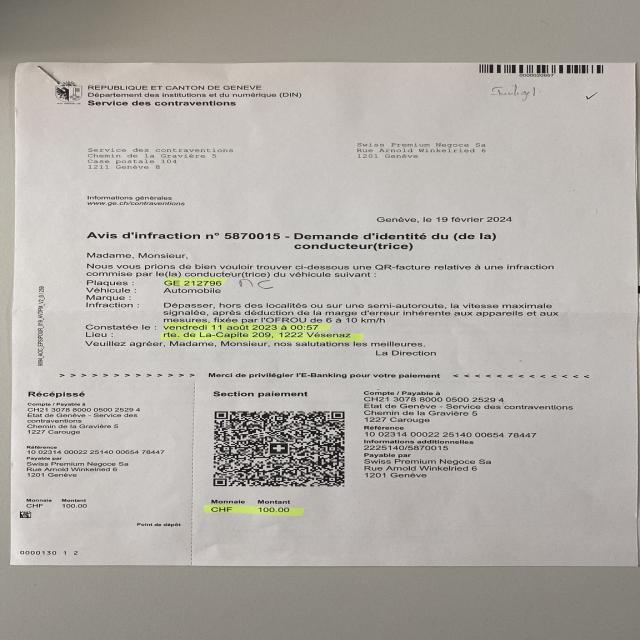paper-document-: (11, 63, 636, 567)
